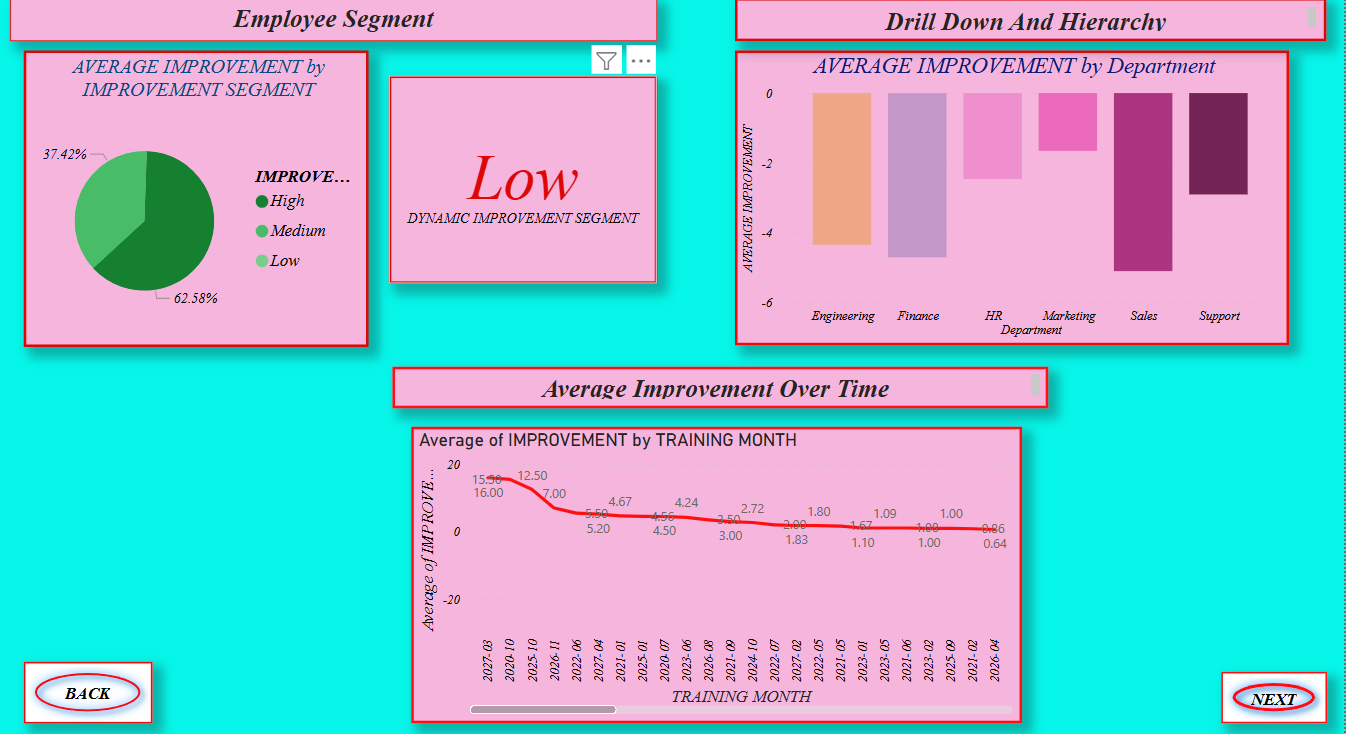

Layout of this report page (visuals, bound fields, positions):
{"tool":"powerbi","page":{"name":"Additional Task","canvas":[1270,695],"ordinal":2},"visuals":[{"type":"textbox","box":[9.5,0,611.2,40.5],"z":0},{"type":"pieChart","fields":{"Category":["Table1.IMPROVEMENT SEGMENT"],"Y":["Table1.AVERAGE IMPROVEMENT"]},"box":[22.6,50,325.2,280],"z":1},{"type":"card","fields":{"Values":["Table1.DYNAMIC IMPROVEMENT SEGMENT"]},"box":[366.9,72.7,253.8,196.6],"z":2},{"type":"clusteredColumnChart","fields":{"Category":["Table1.Employee Hierarchy.Department","Table1.Employee Hierarchy.Training Program","Table1.Employee Hierarchy.Name"],"Y":["Table1.AVERAGE IMPROVEMENT"]},"box":[694.6,50,523,278.8],"z":3},{"type":"textbox","box":[694.6,0,558.8,40.5],"z":5},{"type":"actionButton","box":[22.6,626.7,121.5,58.4],"z":6},{"type":"lineChart","fields":{"Category":["Table1.TRAINING MONTH"],"Y":["Avg(Table1.IMPROVEMENT)"]},"box":[388.4,405.1,576.6,280],"z":7},{"type":"textbox","box":[370.5,347.9,619.5,39.3],"z":8},{"type":"actionButton","box":[1153.2,636.2,100.1,48.8],"z":9}]}

Visuals, with their boxes in screenshot pixels (x1, y1, x2, y2), scaled from the page's 1270x695 canvas onto the 1346x734 screenshot:
textbox: 10, 0, 658, 43
pieChart - Table1.IMPROVEMENT SEGMENT x Table1.AVERAGE IMPROVEMENT: 24, 53, 369, 349
card - Table1.DYNAMIC IMPROVEMENT SEGMENT: 389, 77, 658, 284
clusteredColumnChart - Table1.Employee Hierarchy.Department x Table1.Employee Hierarchy.Training Program: 736, 53, 1290, 347
textbox: 736, 0, 1328, 43
actionButton: 24, 662, 153, 724
lineChart - Table1.TRAINING MONTH x Avg(Table1.IMPROVEMENT): 412, 428, 1023, 724
textbox: 393, 367, 1049, 409
actionButton: 1222, 672, 1328, 723
